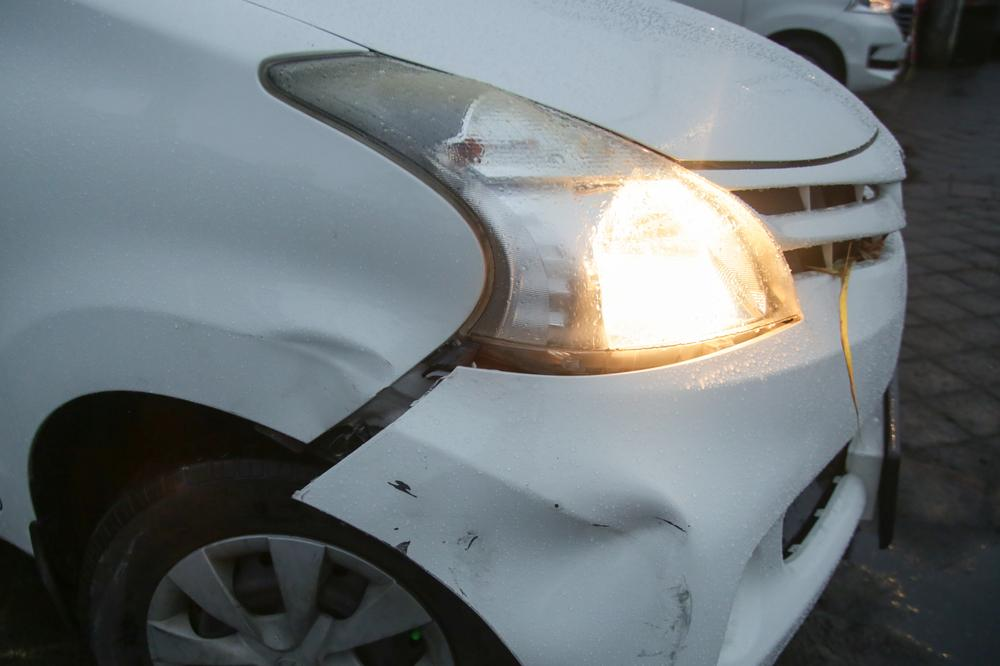dent: (467, 490, 687, 650), (252, 333, 394, 439)
scratch: (636, 576, 694, 666), (381, 474, 422, 555)
